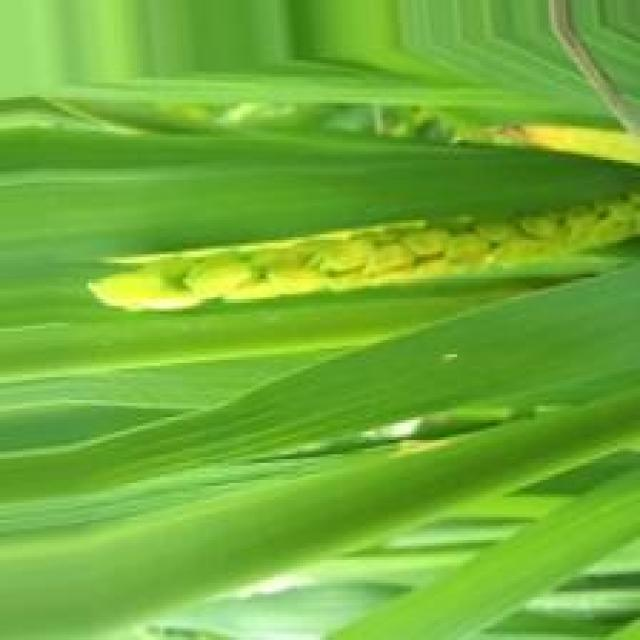HealthyLeaf: (2, 260, 640, 506), (2, 131, 640, 260)
